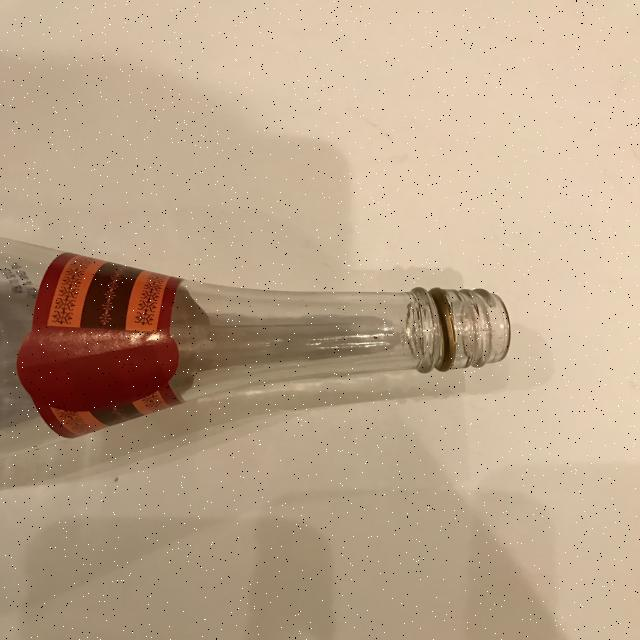glass: (1, 235, 512, 439)
